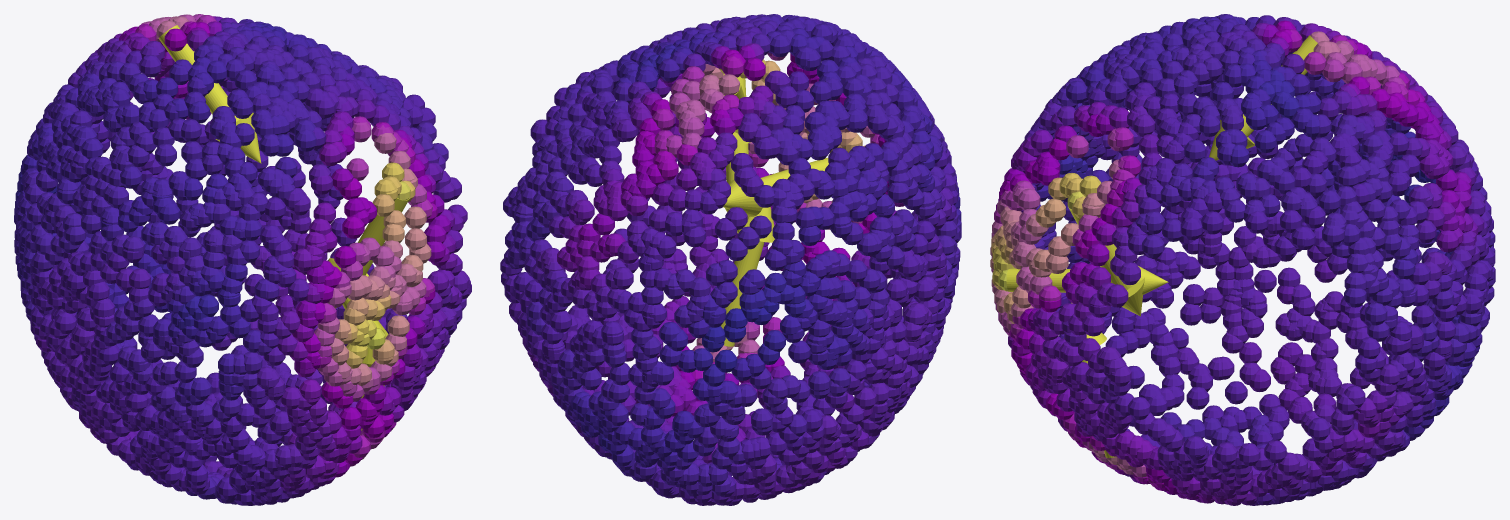
Rendered from pred_heatmap_0.glb.
3 views of the same model, side by side, from view 1: azimuth 30°, elevation 25°; view 2: azimuth 150°, elevation 25°; view 3: azimuth 270°, elevation 25° (orthographic).
Visible parts, largest first — view 1: world; view 2: world; view 3: world.
Boxes of the visible parts, left/top/right/bottom form: world: left=14, top=14, right=471, bottom=505; world: left=500, top=14, right=961, bottom=505; world: left=990, top=14, right=1495, bottom=505.
Bounding box in the file's own units: 1.06 × 1.29 × 1.29.
